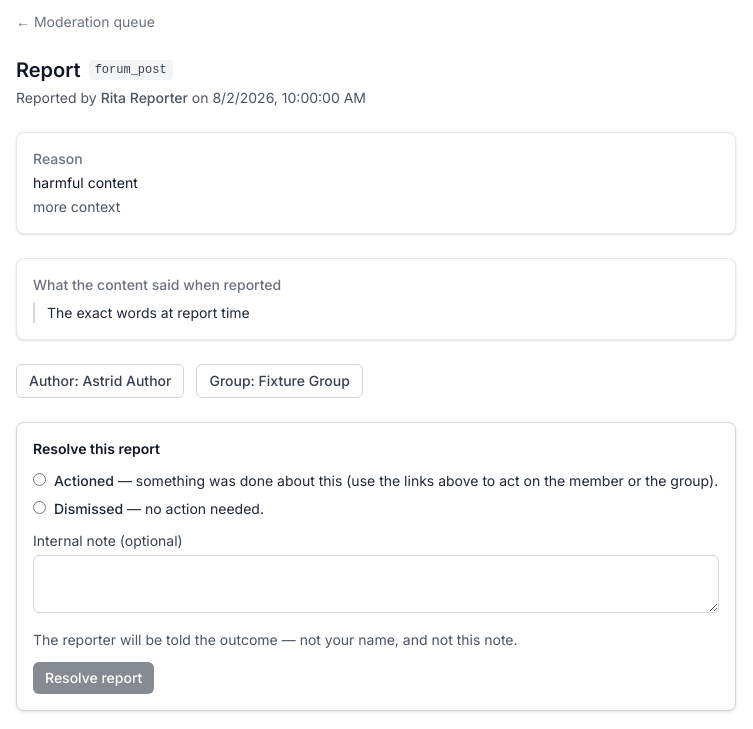
Test: AdminReportDetail (FEAT-H037 STORY-2/3) › resolving posts the outcome + note and repaints from the fresh read
Expected: the element with test id "resolve-panel" is shown, [16,422,736,711]
Step 1. Click the radio button labelled "Actioned" → (40, 480), box [33,473,46,486]
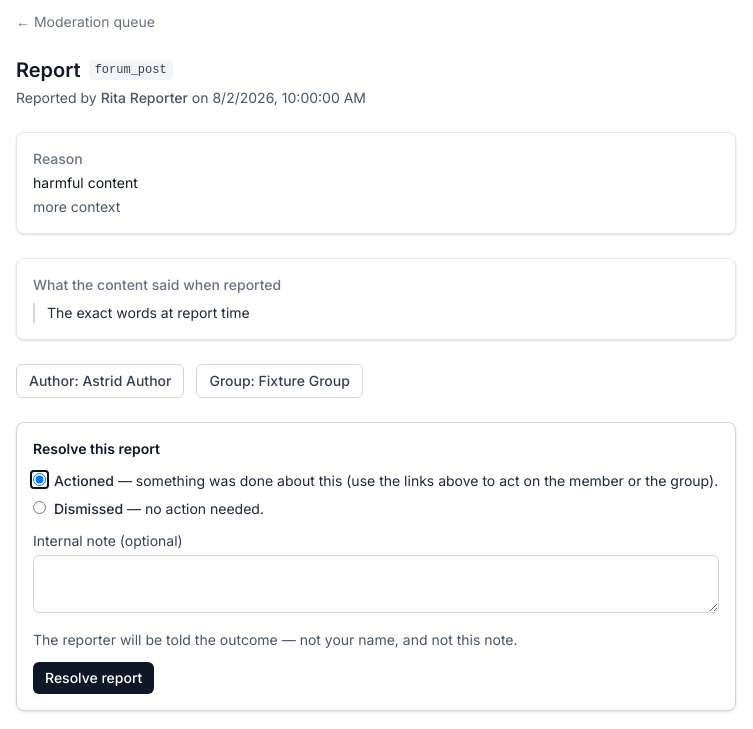
Step 2. Type "escalated" into the text box labelled "Internal note (optional)" → (376, 584), box [33,555,719,613]
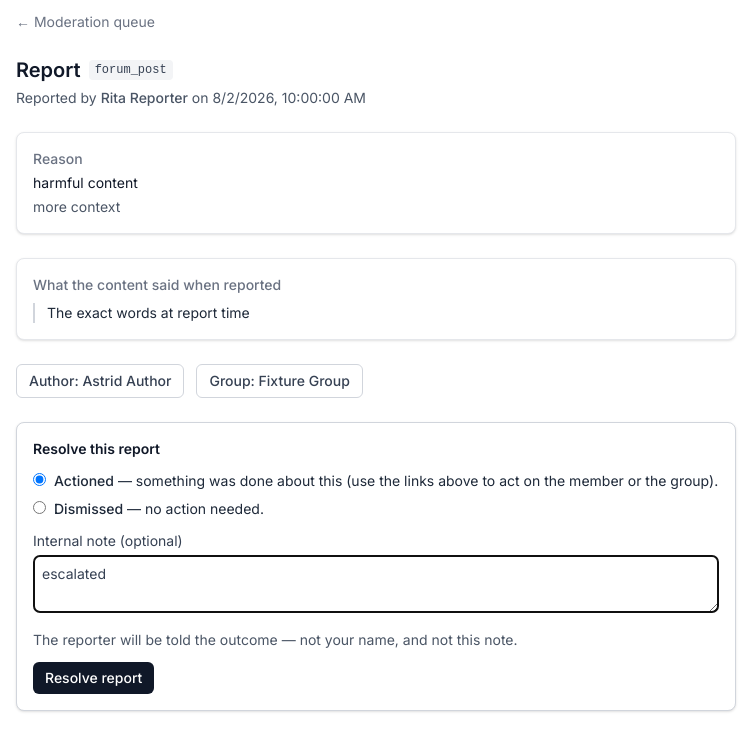
Step 3. Click the button "Resolve report" → (94, 678), box [33,662,154,694]
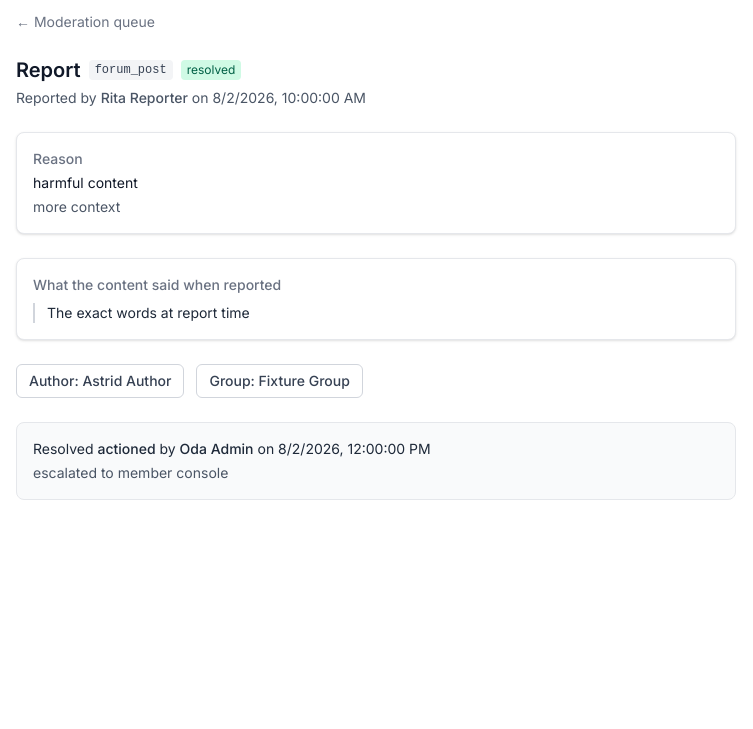
Result: the element with test id "report-provenance" shows "Oda Admin" at [180,440,254,457]
